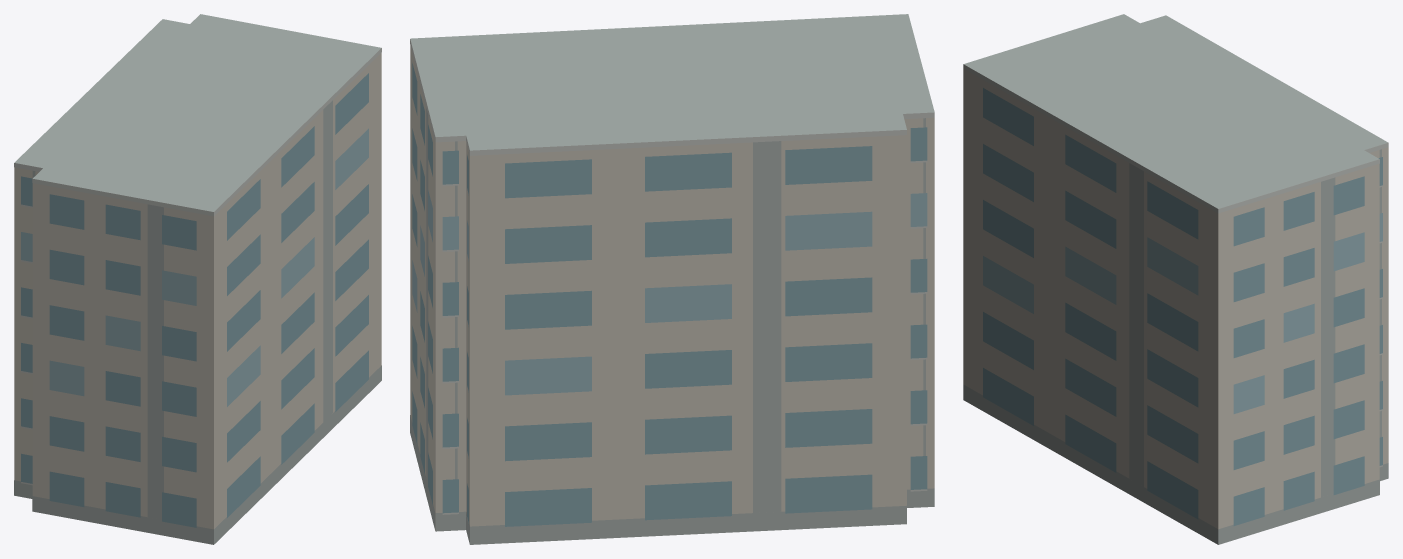
Rendered from survey-upis-32991222.glb.
3 views of the same model, side by side, from view 1: azimuth 30°, elevation 25°; view 2: azimuth 150°, elevation 25°; view 3: azimuth 270°, elevation 25° (orthographic). The views are drawn at different scales.
Parts seen in each view (by area): view 1: survey-upis-32991222.tmp; view 2: survey-upis-32991222.tmp; view 3: survey-upis-32991222.tmp.
Part boxes in pixels (x1,y1,x2,y2): survey-upis-32991222.tmp: [14, 14, 381, 544]; survey-upis-32991222.tmp: [410, 14, 934, 544]; survey-upis-32991222.tmp: [963, 14, 1388, 544].
Bounding box in the file's own units: 22.8 × 18.3 × 21.
